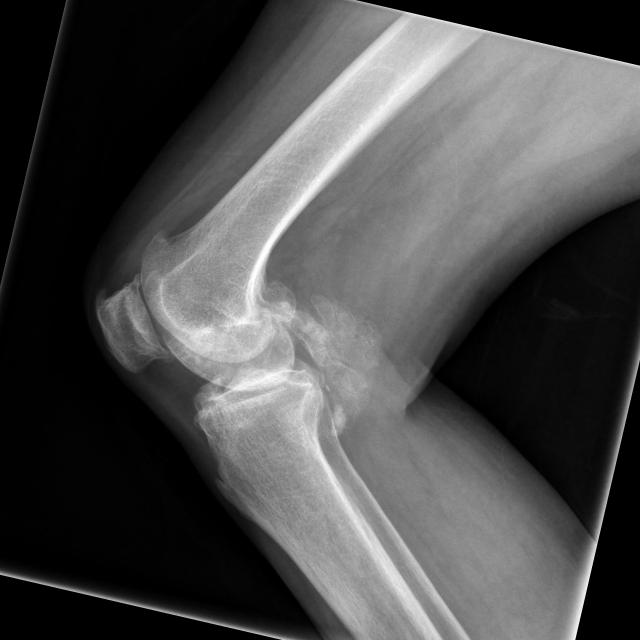Knee: (61, 220, 354, 477)
